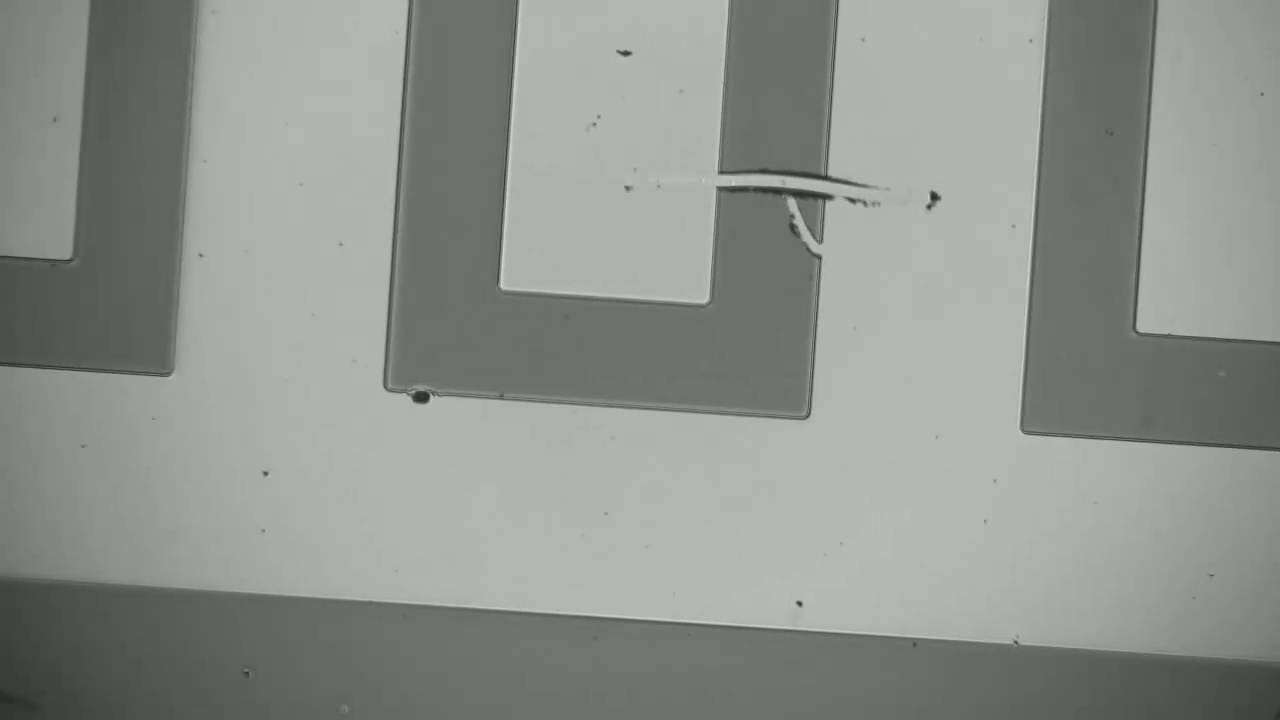Short_circuit: (697, 152, 853, 226)
